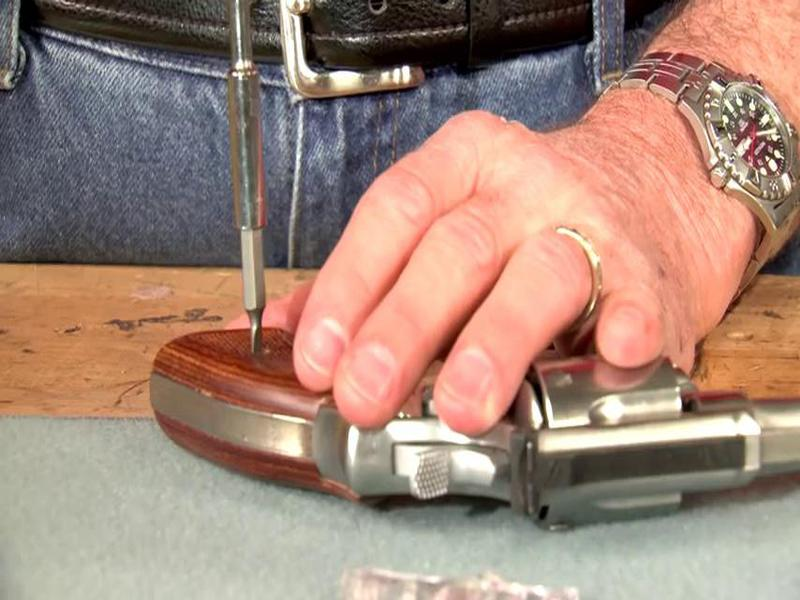Revolver: (135, 262, 800, 549)
